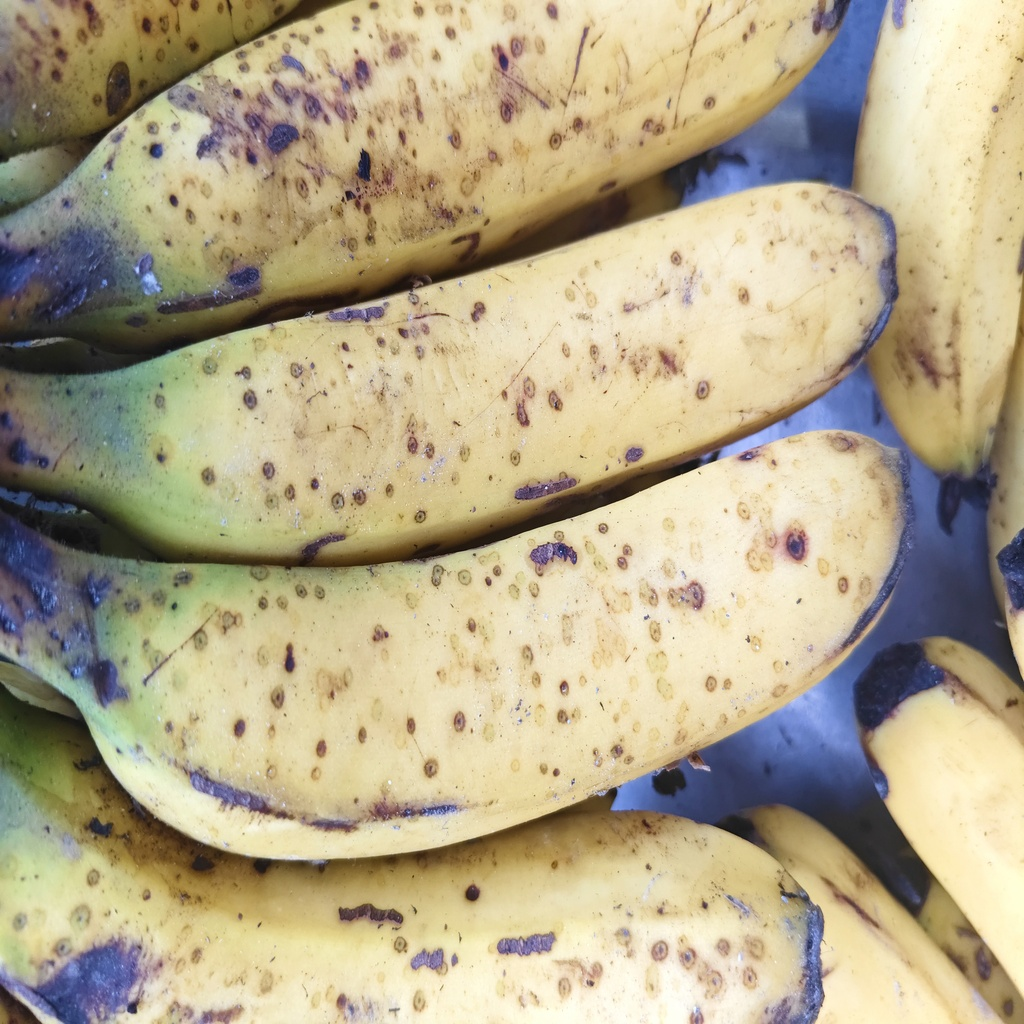unhealthy: (95, 428, 904, 861), (87, 176, 916, 557)
